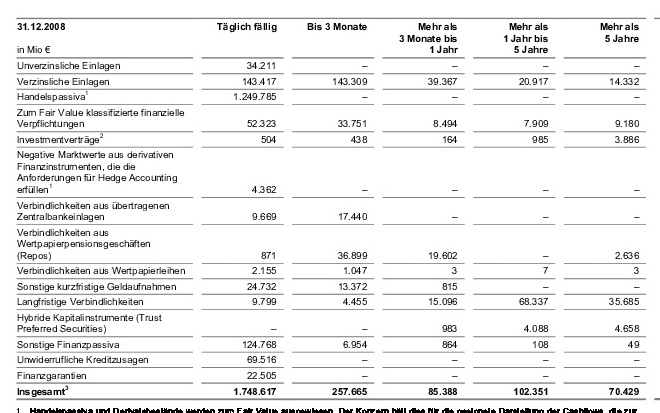table: (0, 0, 660, 413)
